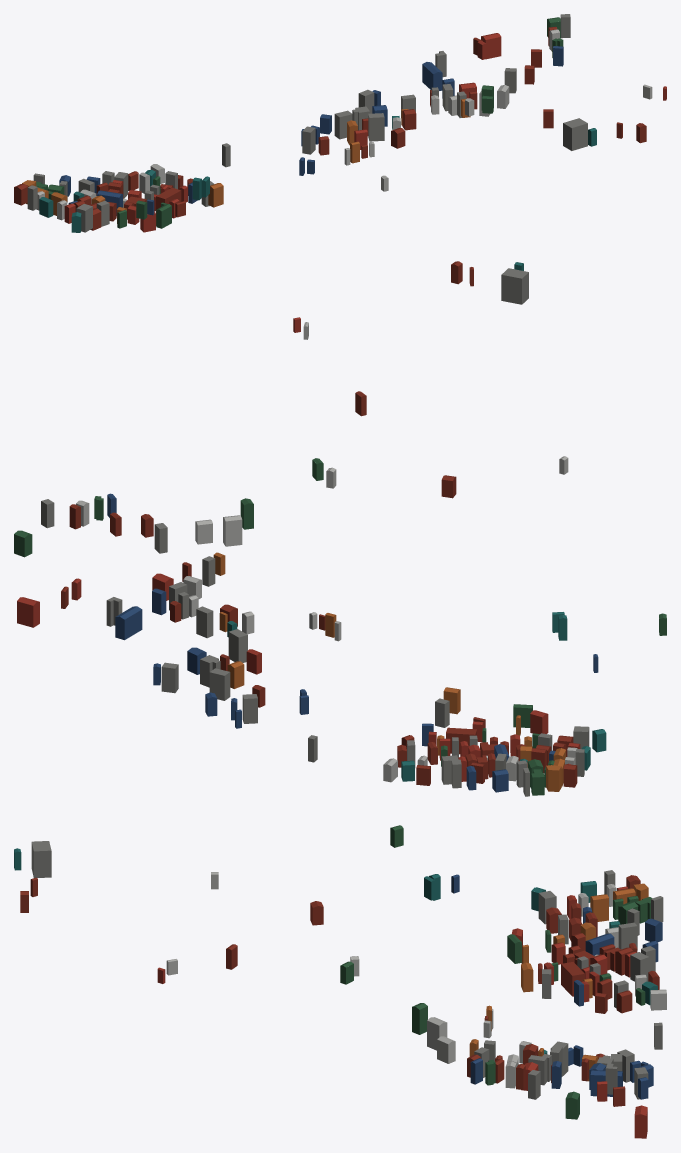
File: near-16-54720-29733.3258ccfb.glb
3 views of the same model, one above another, from view 1: azimuth 30°, elevation 25°; view 2: azimuth 150°, elevation 25°; view 3: azimuth 270°, elevation 25° (orthographic). The views are drawn at different scales.
Size of the model in its own units: 600 by 237 by 559.
